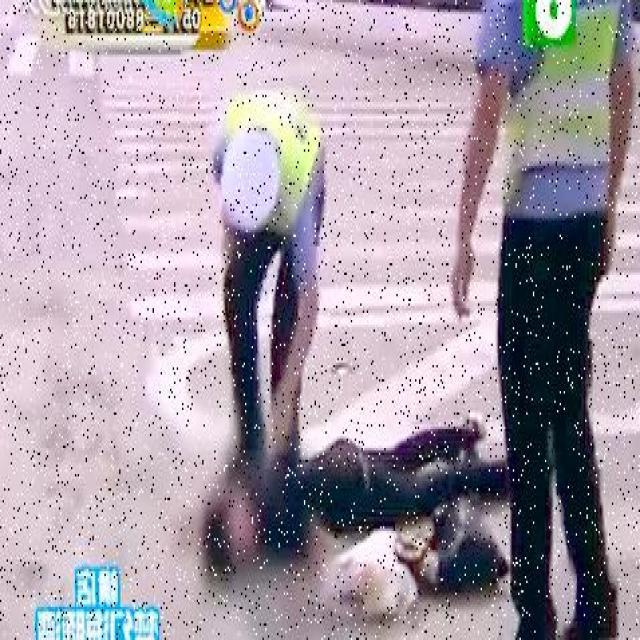fall: (206, 420, 481, 564)
